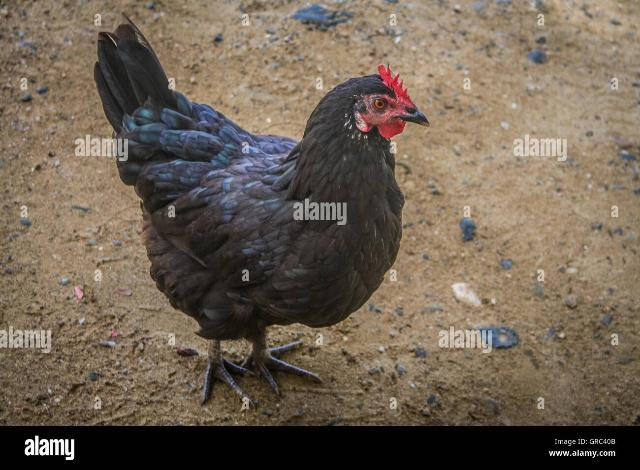Chicken: (93, 24, 431, 409)
